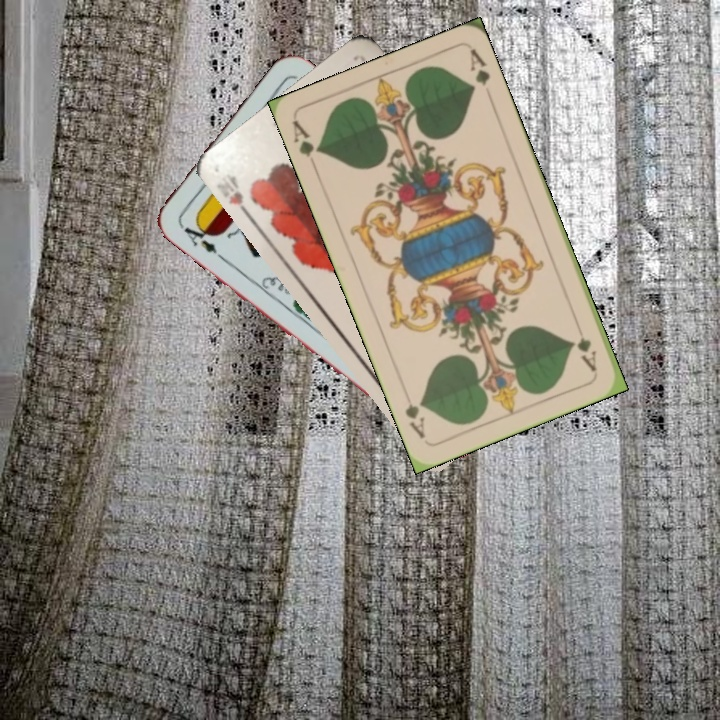EA: (175, 216, 220, 256)
GA: (288, 117, 325, 173), (572, 333, 599, 374)
H10: (213, 166, 254, 222)
